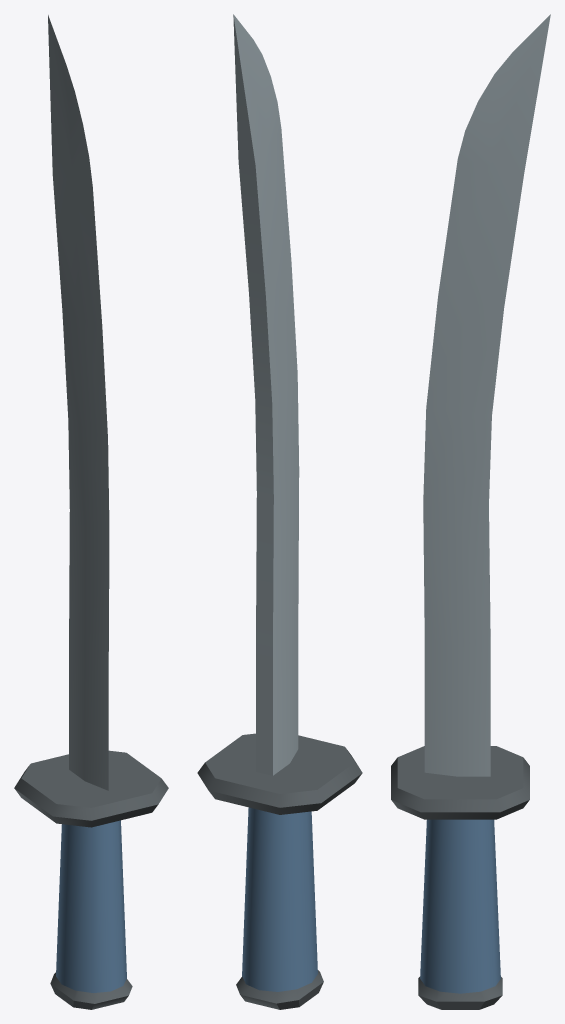
The model's file is katana.gltf.glb.
The picture shows the model from 3 angles, left to right: view 1: azimuth 30°, elevation 25°; view 2: azimuth 150°, elevation 25°; view 3: azimuth 270°, elevation 25°; orthographic projection. The views are drawn at different scales.
Parts seen in each view (by area): view 1: katana; view 2: katana; view 3: katana.
Boxes of the visible parts, bbox=[...] form: katana: bbox=[14, 15, 168, 1009]; katana: bbox=[197, 14, 362, 1009]; katana: bbox=[391, 14, 550, 1009].
Bounding box in the file's own units: 0.17 × 1.34 × 0.1957.
